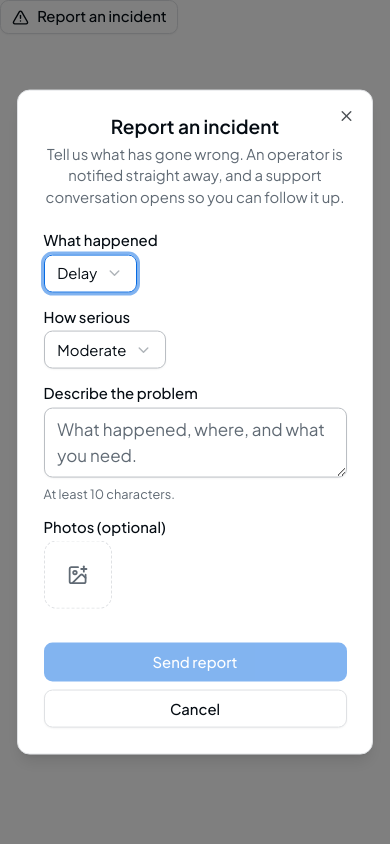
the form › keeps submit disabled until the description is long enough
Expected: the button "Send report" is disabled, [44,643,346,681]
In the text box labelled "Describe the problem": {"x": 195, "y": 442} [44,407,346,477], type "too short"
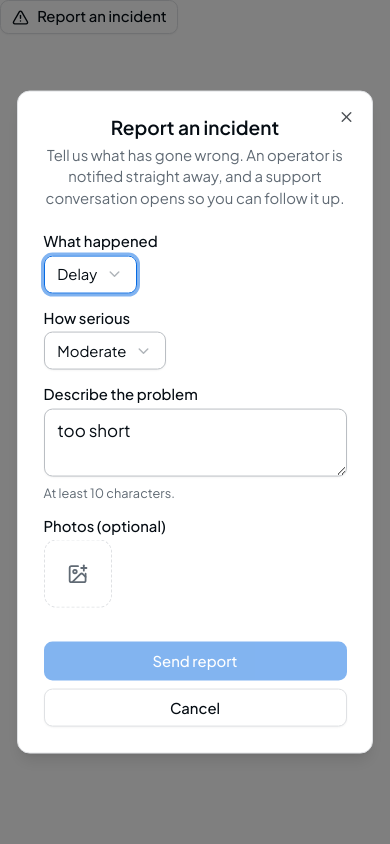
Expected: the button "Send report" is disabled, [44,642,346,680]
Replace the text in the text box labelled "Describe the problem" with "the tail lift has failed at the depot": {"x": 195, "y": 442} [44,408,346,476]
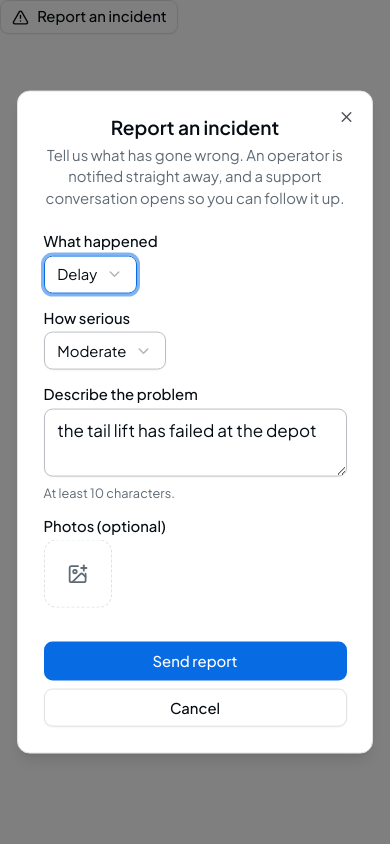
Now the button "Send report" is enabled, box [44,642,346,680]
